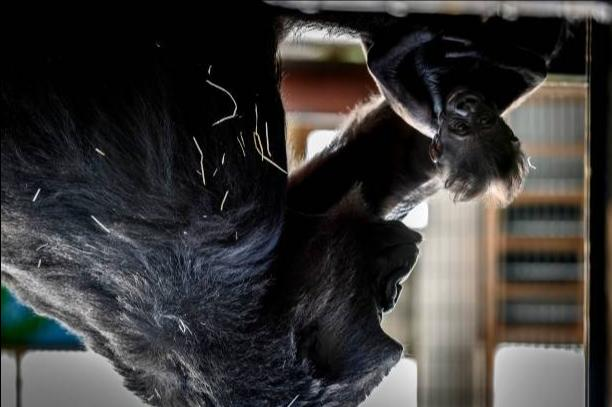gorille_Autres: (340, 10, 576, 205)
